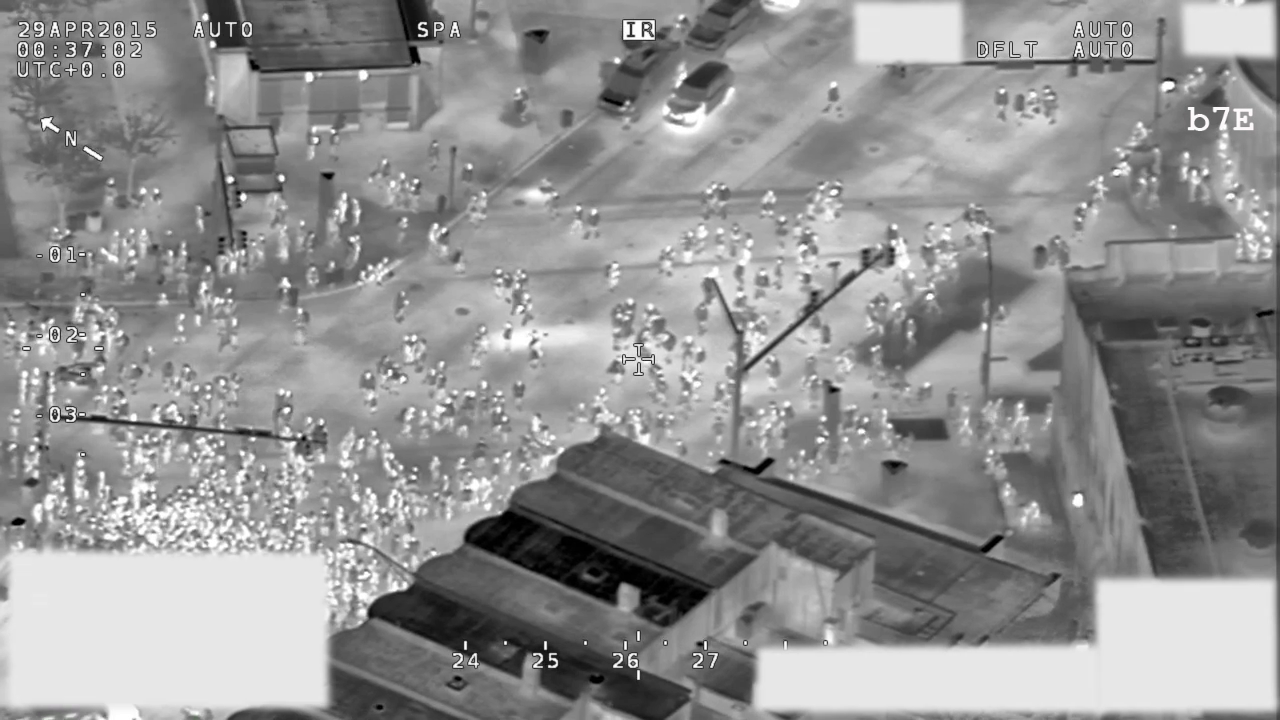vehicle: (592, 26, 683, 129), (661, 56, 742, 131), (682, 1, 760, 60)
